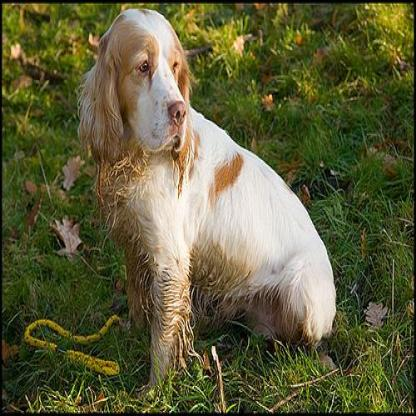clumber: (78, 6, 336, 398)
